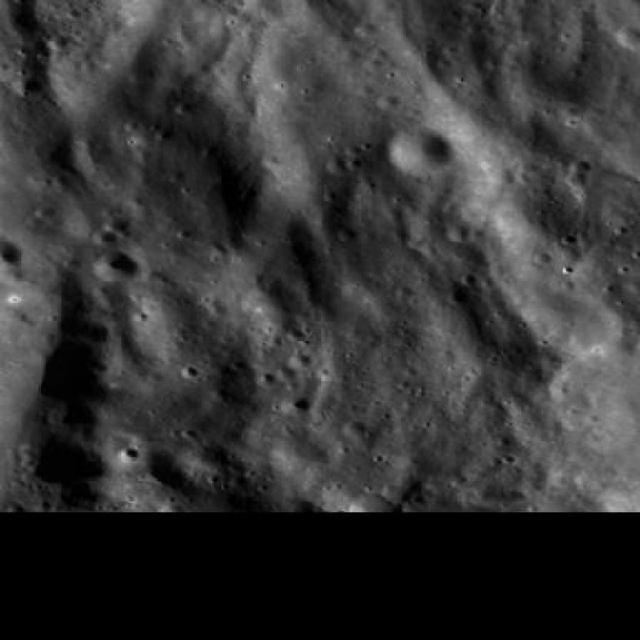crater: (0, 64, 277, 336), (424, 323, 544, 409), (105, 450, 188, 508), (388, 127, 454, 175), (100, 30, 166, 76), (428, 300, 492, 346), (244, 288, 298, 328), (272, 436, 326, 474), (94, 251, 138, 284), (184, 441, 230, 472), (14, 77, 42, 97), (282, 394, 310, 414), (0, 264, 25, 284), (158, 503, 184, 522), (94, 229, 118, 246), (324, 156, 348, 173), (288, 353, 312, 369), (448, 225, 470, 242), (358, 23, 380, 39), (378, 94, 400, 110)
